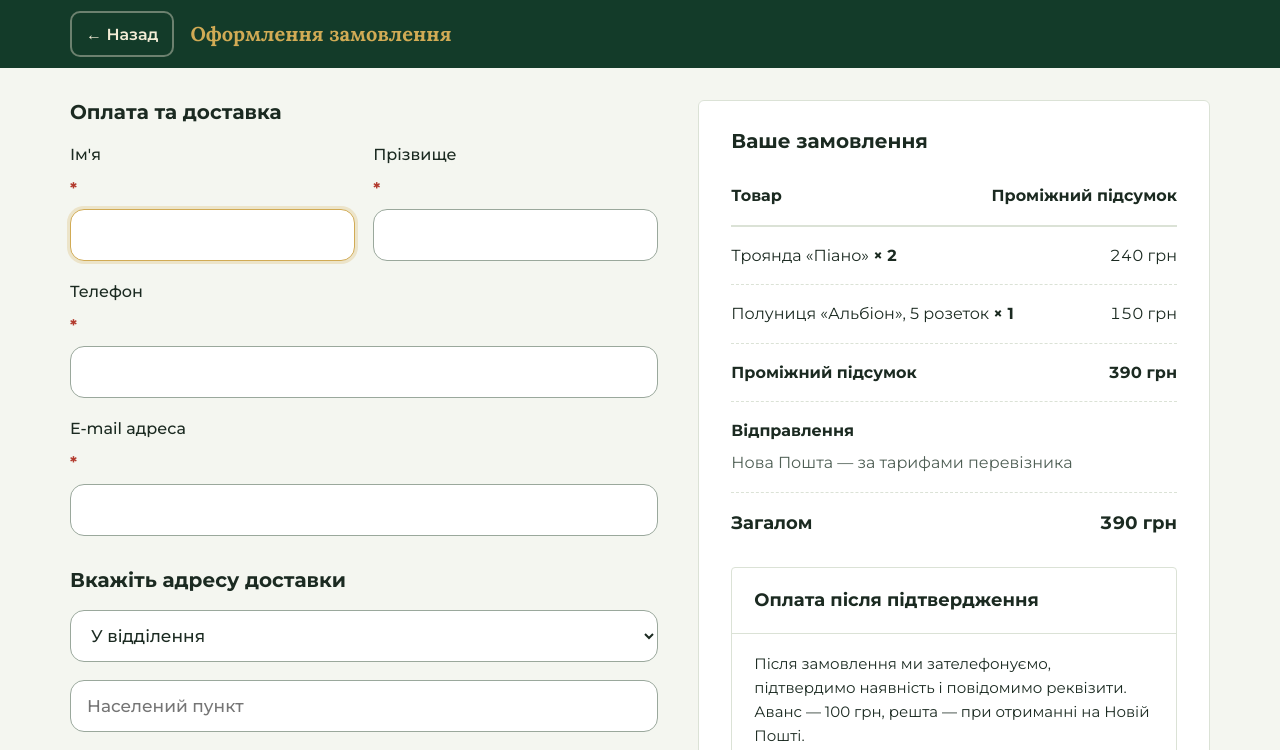
Scenario: кошик і замовлення › надсилає замовлення і показує номер від сервера
The image size is (1280, 750).
Earlier steps of the test are not shown.
Type "Олена" into the field labelled "Ім'я *". click: (213, 235)
box: top-left (70, 209), bottom-right (355, 261)
Type "Коваленко" into the field labelled "Прізвище *". click: (516, 235)
box: top-left (373, 209), bottom-right (658, 261)
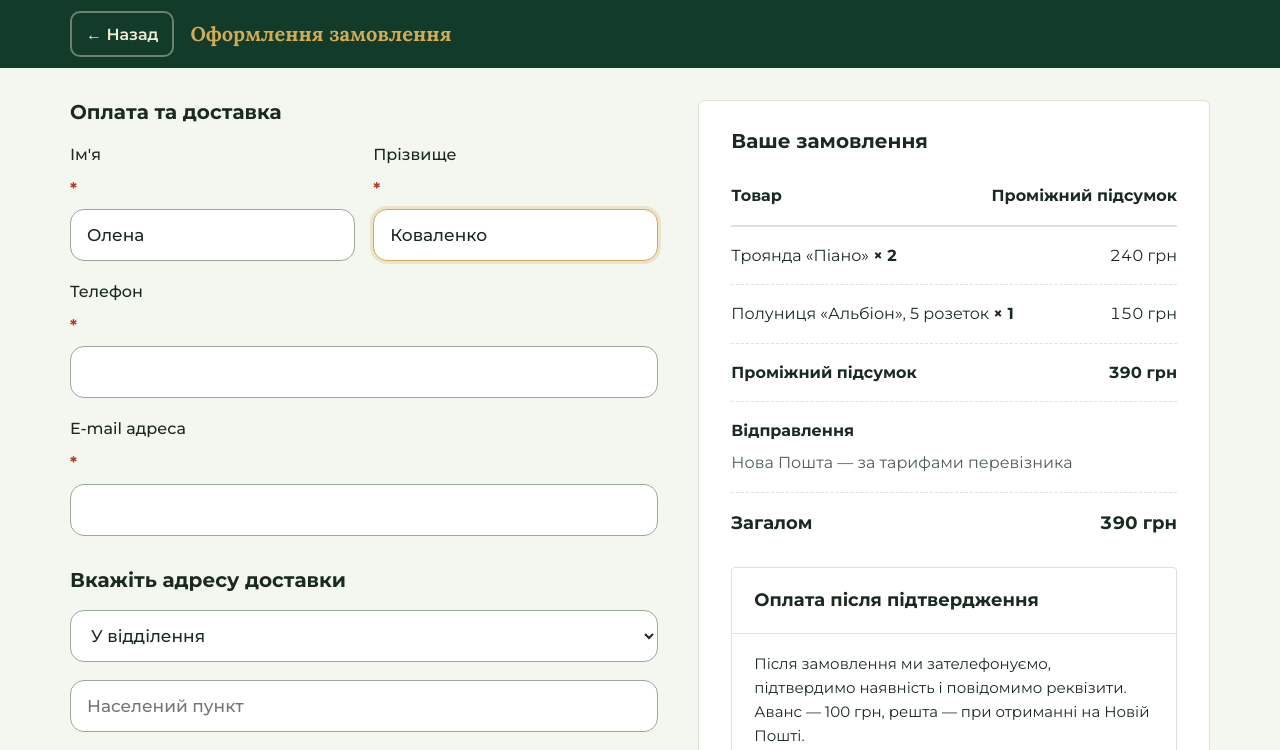
Type "067 123 45 67" into the field named "phone". click: (364, 372)
box: top-left (70, 346), bottom-right (658, 398)
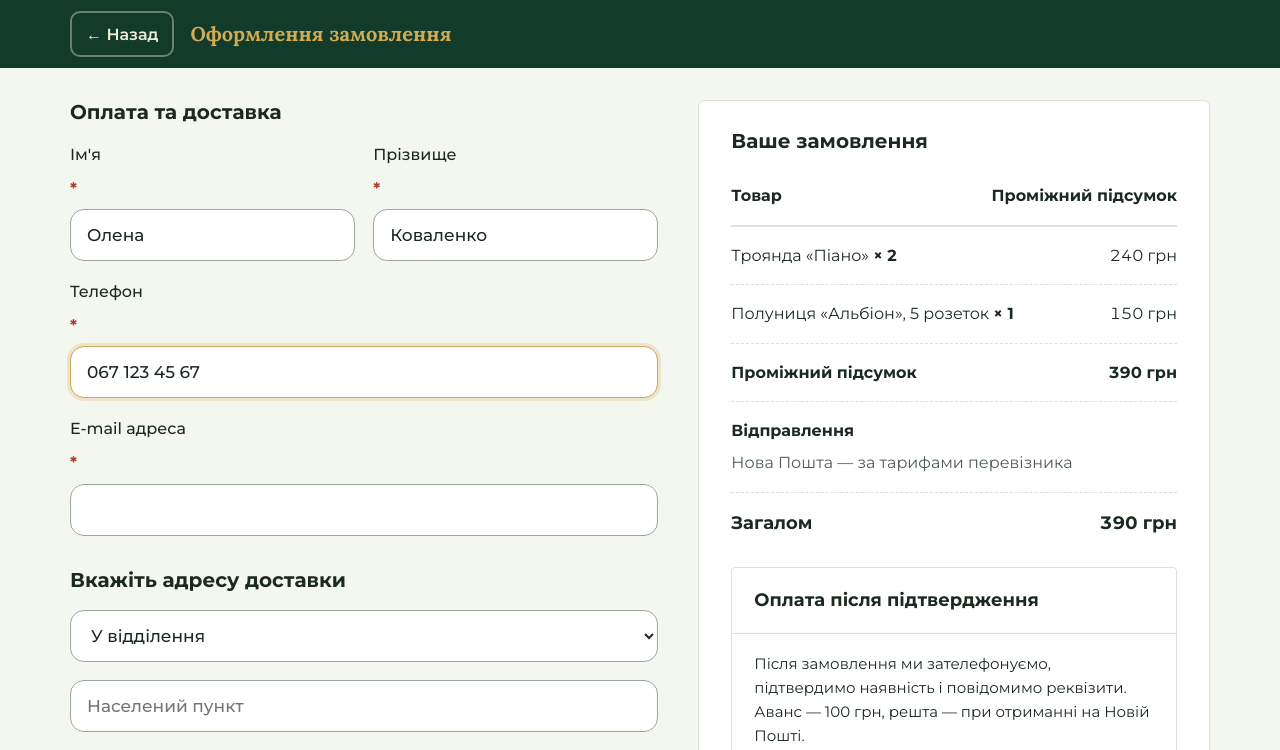
Type "olena@example.com" into the field labelled "E-mail адреса *". click: (364, 510)
box: top-left (70, 484), bottom-right (658, 536)
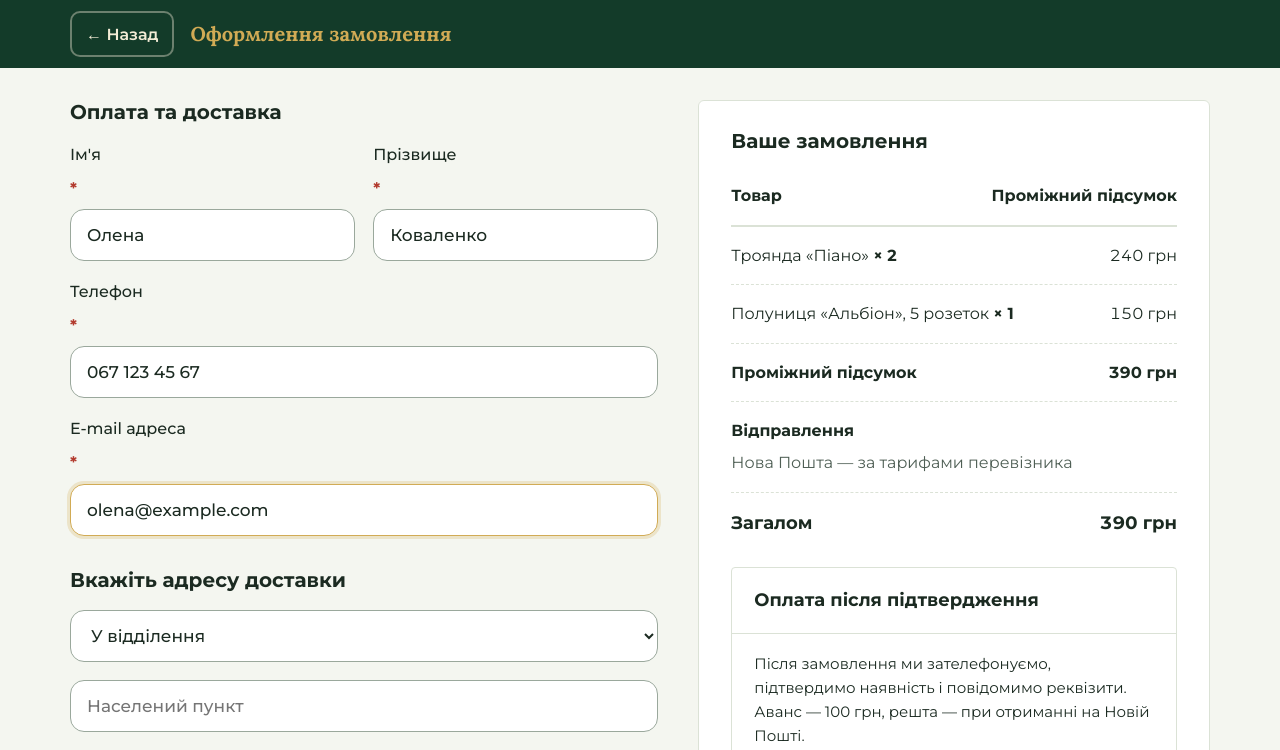
Type "Вінниця" into the field with placeholder "Населений пункт". click: (364, 706)
box: top-left (70, 680), bottom-right (658, 732)
(page scrolled)
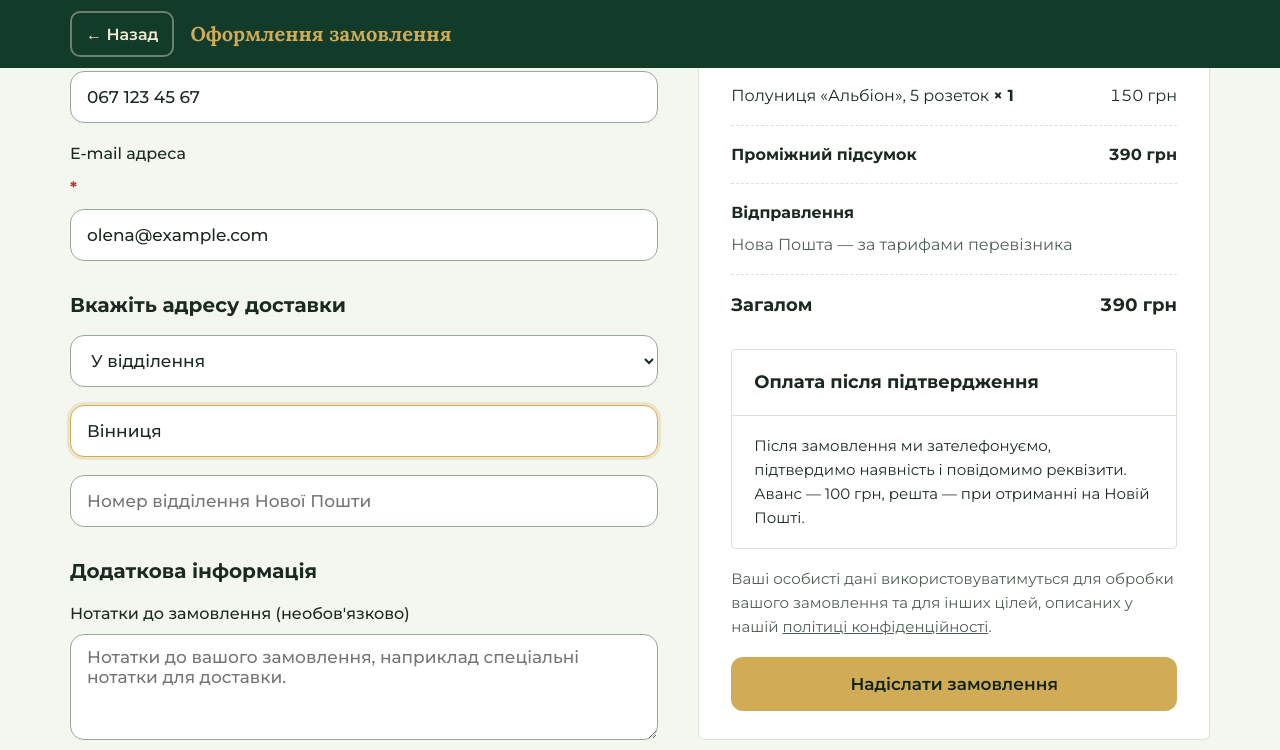
Type "12" into the field with placeholder "Номер відділення Нової Пошти". click: (364, 501)
box: top-left (70, 475), bottom-right (658, 527)
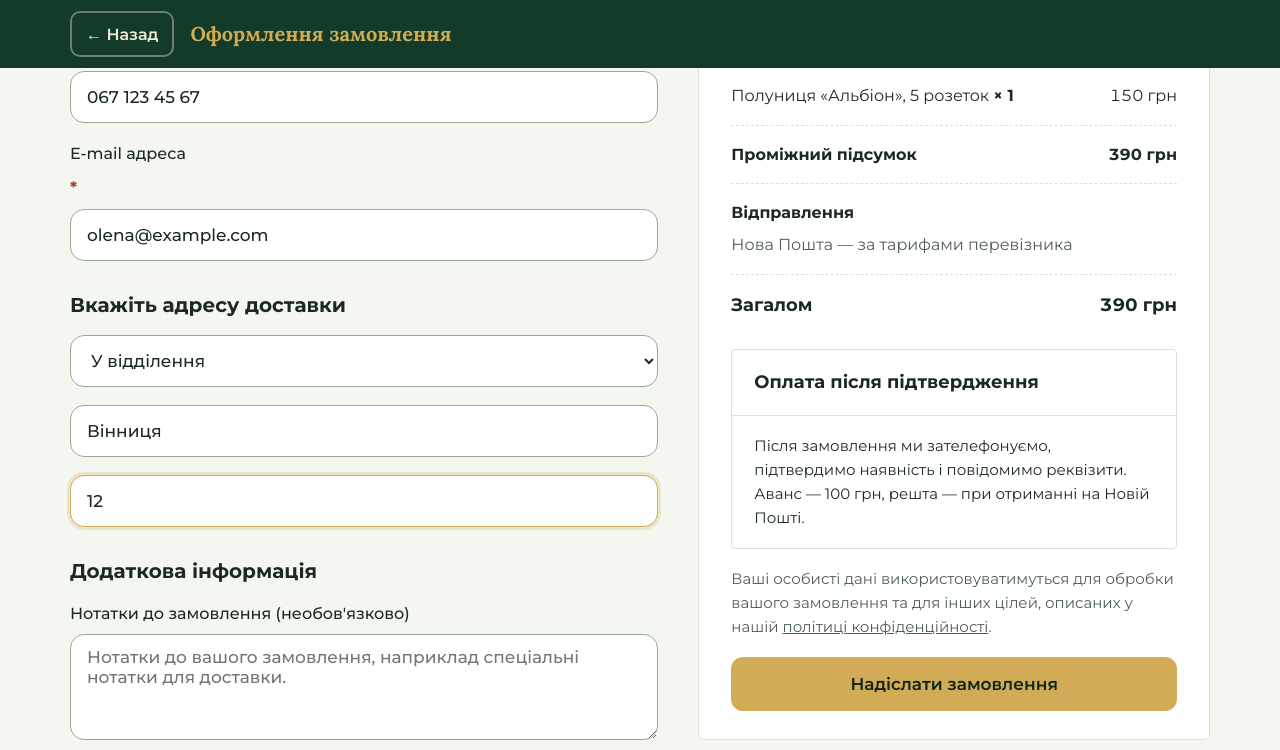
Click the button "Надіслати замовлення". click: (954, 684)
box: top-left (731, 657), bottom-right (1177, 711)
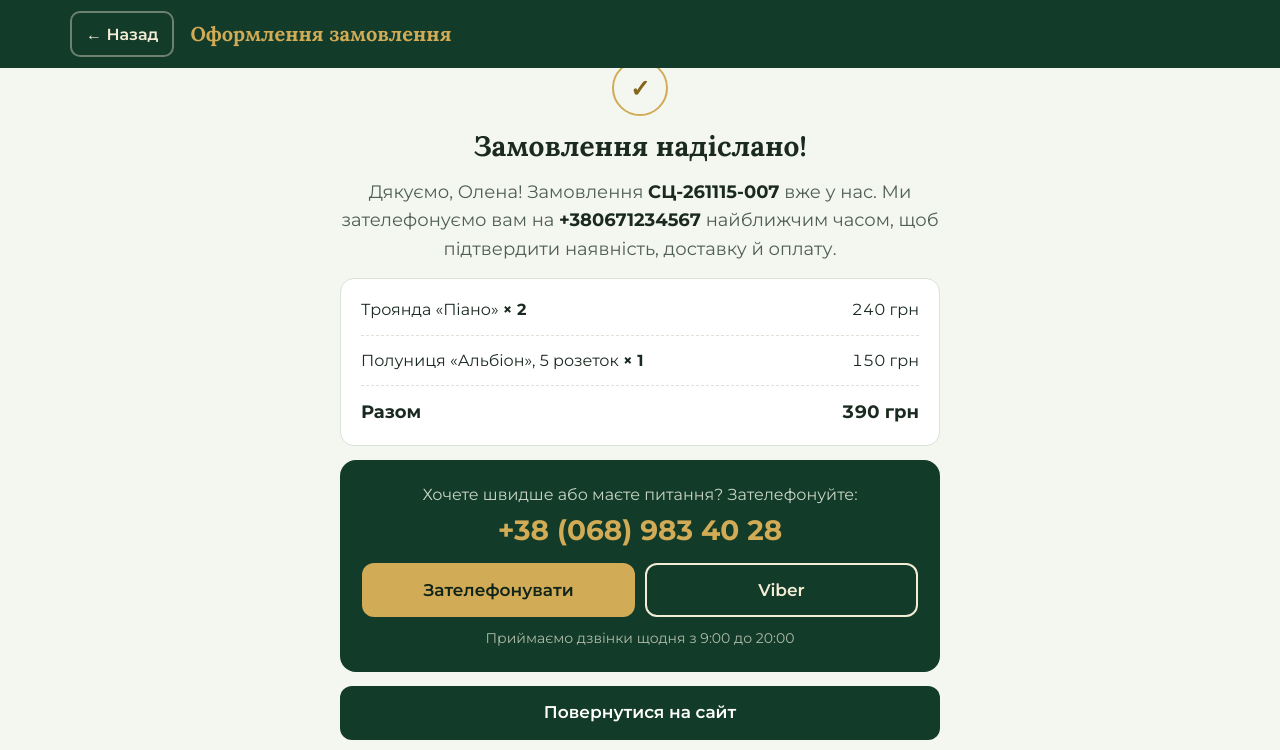
Check: the heading "Замовлення надіслано!" is shown, box top-left (473, 128), bottom-right (807, 164)
Check: the text "СЦ-261115-007" is shown, box top-left (648, 181), bottom-right (780, 203)
